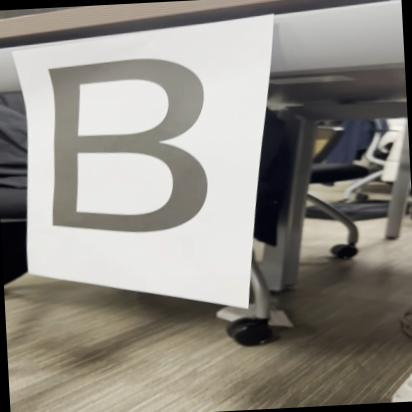seat: (24, 44, 225, 250)
